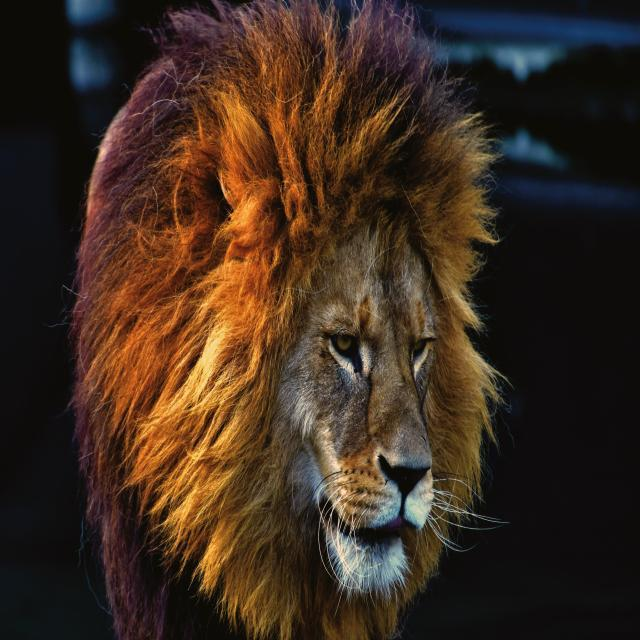lions: (13, 0, 640, 628)
